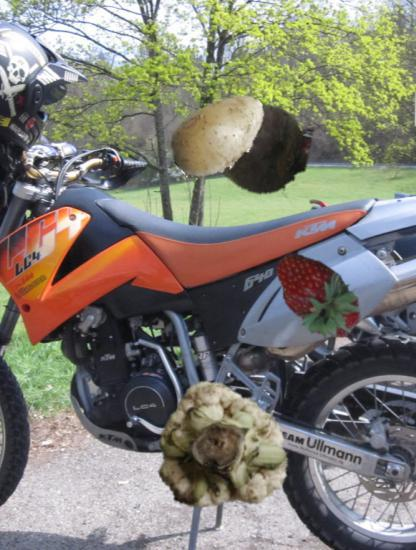Beetroot: (174, 75, 313, 214)
Cauliflower: (156, 388, 293, 525)
Potato: (166, 81, 271, 186)
Strawberry: (264, 246, 367, 349)
